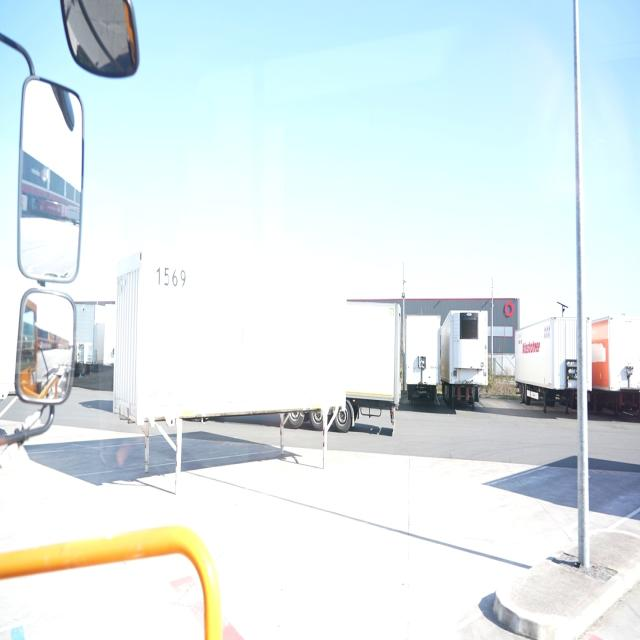Code: (154, 261, 188, 294)
